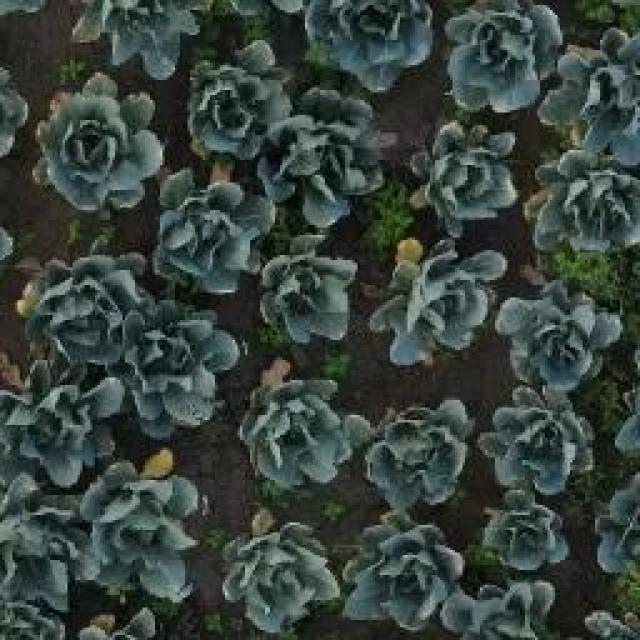cabbage: (259, 84, 391, 232), (71, 454, 202, 601), (368, 240, 507, 372), (29, 79, 164, 212), (120, 299, 240, 444), (234, 364, 364, 492), (218, 504, 339, 636), (338, 509, 468, 629), (150, 166, 269, 296), (21, 249, 150, 367), (0, 363, 125, 482), (444, 0, 564, 116), (496, 283, 624, 390), (362, 393, 479, 508), (408, 115, 518, 233), (179, 48, 292, 162), (521, 149, 640, 255), (480, 388, 598, 494), (299, 0, 436, 89), (256, 237, 360, 346), (549, 30, 640, 149), (476, 493, 576, 579)
